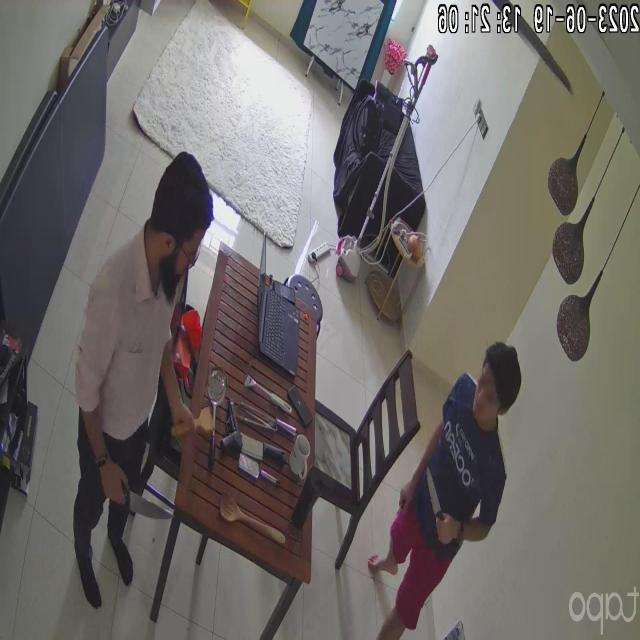Knife: (413, 464, 455, 535), (113, 477, 175, 524)
